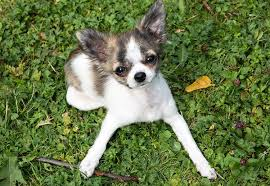chihuahua: (49, 1, 213, 181)
